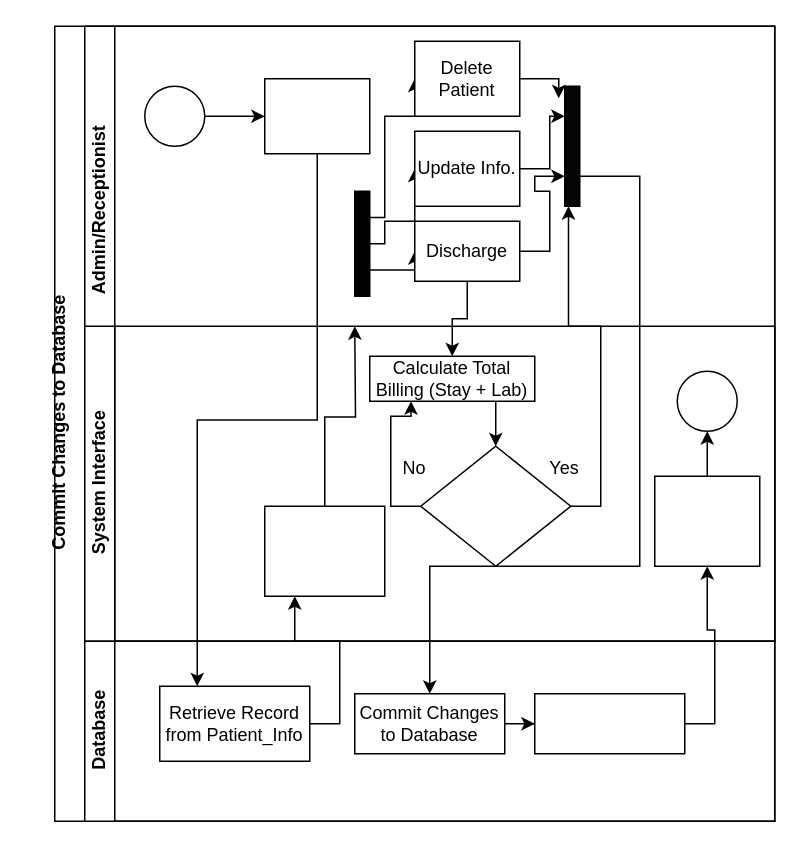
The diagram is 801 pixels wide and 848 high, and some of its shapes have lost their labels. The box of each missing label's shape, as (x1, y1, x2, y2) in pixels:
Display Search Results: (263, 505, 385, 596)
Generate & Print Final Invoice: (653, 475, 760, 566)
Payment Confirmed?: (419, 445, 571, 566)
Search Patient: (263, 77, 370, 154)
Update Bed Status to Available: (533, 692, 685, 754)
